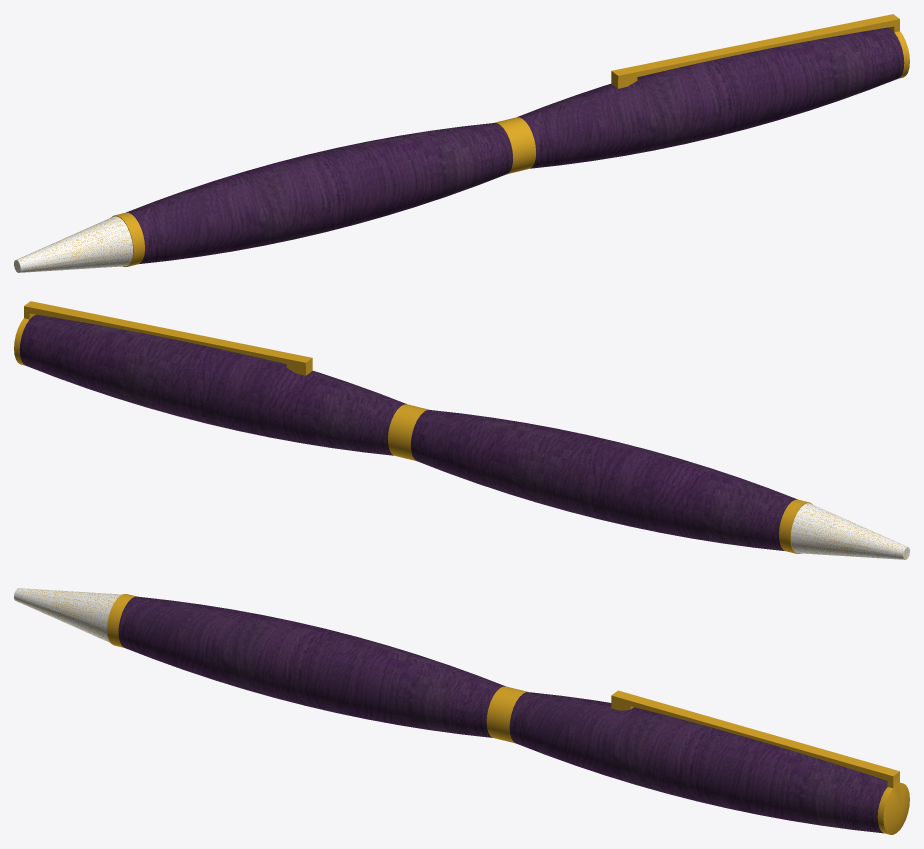
File: purple_pen.dae
3 renders of one model, top to bottom at view 1: azimuth 30°, elevation 25°; view 2: azimuth 150°, elevation 25°; view 3: azimuth 330°, elevation 25°, orthographic.
Parts seen in each view (by area): view 1: pen_barrel (×2), SketchUp (×4); view 2: pen_barrel (×2), SketchUp (×4); view 3: pen_barrel (×2), SketchUp (×4).
Part boxes in pixels (x1=…): pen_barrel (×2): x1=126, y1=27, x2=904, y2=263; SketchUp (×4): x1=14, y1=14, x2=909, y2=272; pen_barrel (×2): x1=19, y1=314, x2=797, y2=550; SketchUp (×4): x1=14, y1=301, x2=909, y2=559; pen_barrel (×2): x1=118, y1=596, x2=887, y2=833; SketchUp (×4): x1=14, y1=588, x2=909, y2=834.
Bounding box in the file's own units: 4.81 × 0.375 × 0.4332.
Materials: 3 (1 with a texture image).
